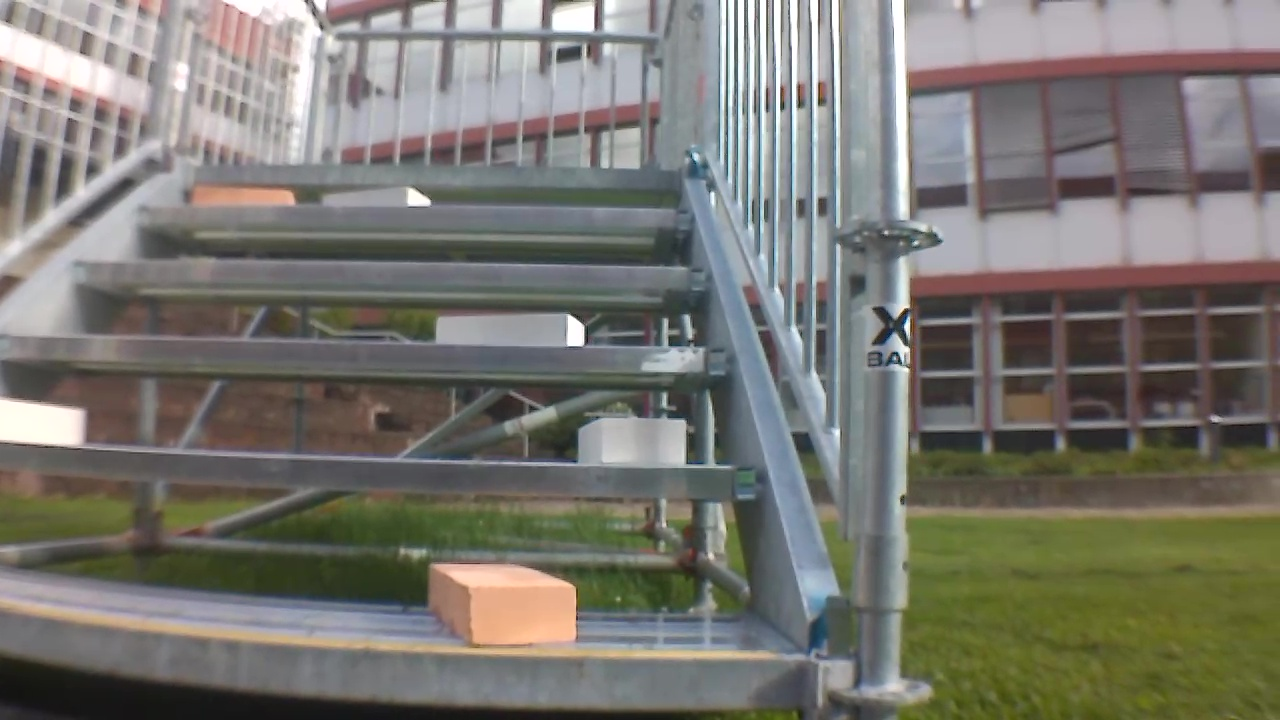brick: (429, 565, 576, 645), (580, 418, 684, 464), (436, 314, 584, 345), (1, 400, 82, 444), (323, 187, 429, 208), (193, 185, 293, 206)
edge: (1, 607, 807, 709), (0, 442, 761, 498), (4, 336, 729, 371), (79, 260, 708, 289), (141, 203, 695, 229), (190, 166, 682, 189)
stairs: (2, 5, 930, 717)
steps: (4, 154, 819, 717)
